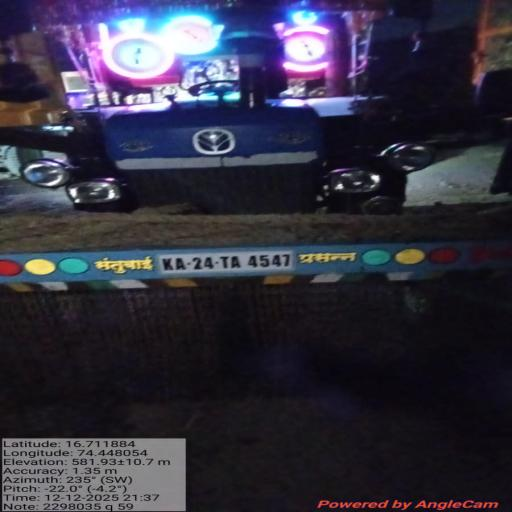number_plate: (159, 251, 294, 274)
